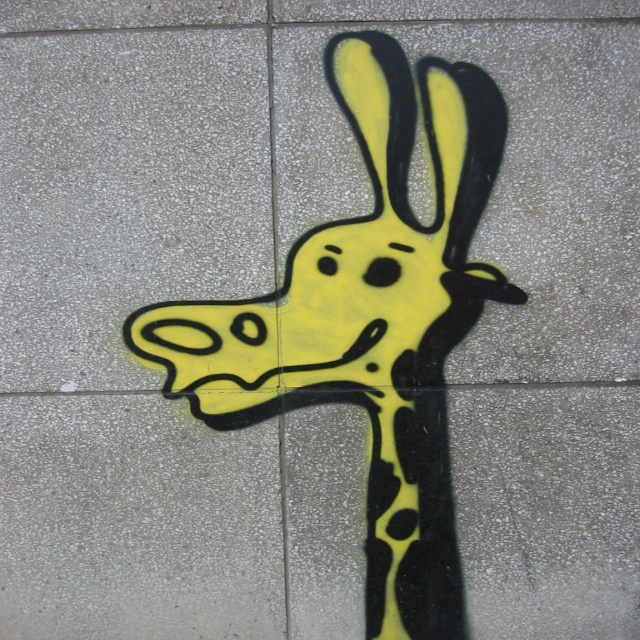Giraffe: (114, 30, 512, 634)
